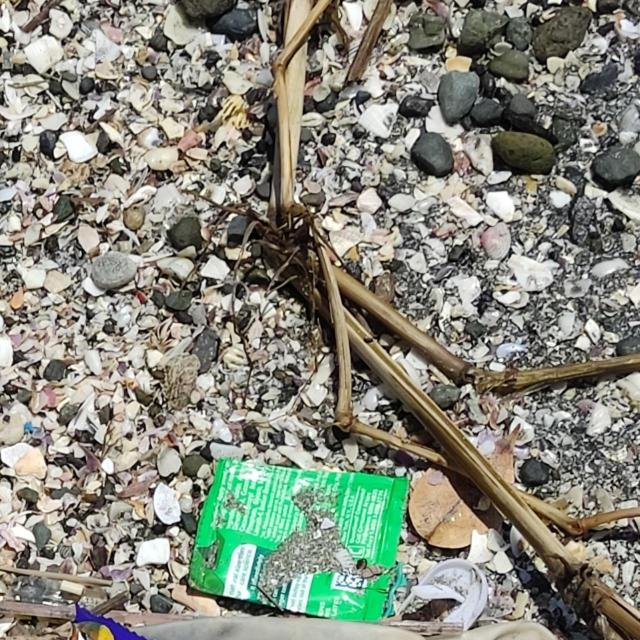plastic_waste: (189, 460, 411, 625)
